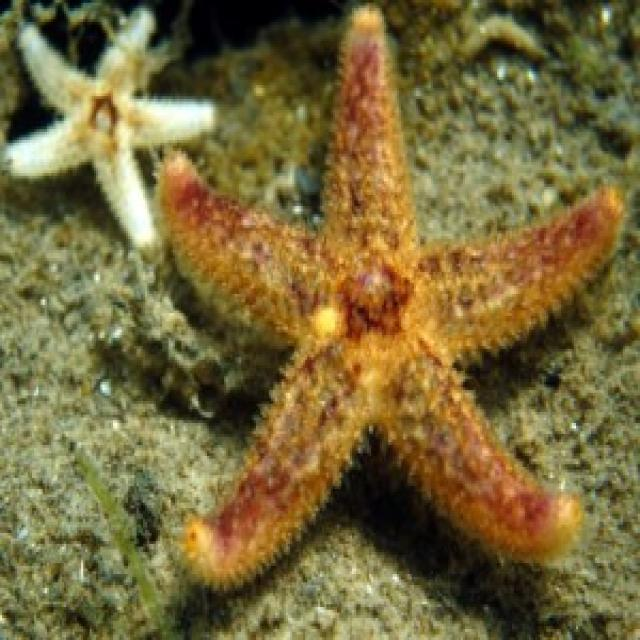Starfish: (148, 9, 626, 606), (1, 1, 222, 260)
